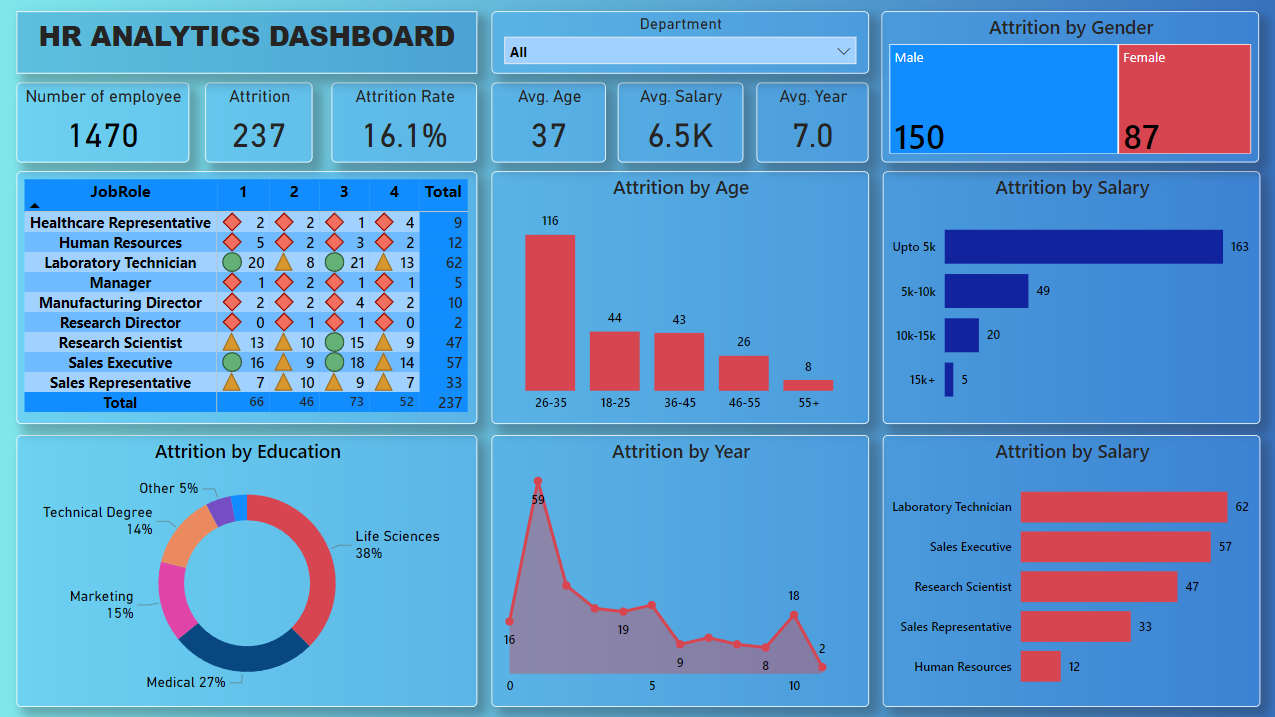

This screenshot's page, from the dashboard's own definition file:
{"tool":"powerbi","page":{"name":"Page 1","canvas":[1280,720],"ordinal":0},"visuals":[{"type":"card","title":"Number of employee","fields":{"Values":["CountNonNull(HR_Analytics.EmpID)"]},"box":[18.1,82,172.5,79.6],"z":0},{"type":"card","title":"Attrition","fields":{"Values":["Sum(HR_Analytics.AttritionCount)"]},"box":[206.3,82,107.4,79.6],"z":1000},{"type":"card","title":"Attrition Rate","fields":{"Values":["HR_Analytics.AttritionRate"]},"box":[333,82,146,79.6],"z":2000},{"type":"card","title":"Avg. Age","fields":{"Values":["Avg(HR_Analytics.Age)"]},"box":[492.2,82,114.6,79.6],"z":3000},{"type":"card","title":"Avg. Salary ","fields":{"Values":["Avg(HR_Analytics.MonthlyIncome)"]},"box":[618.9,82,125.5,79.6],"z":4000},{"type":"card","title":"Avg. Year ","fields":{"Values":["Avg(HR_Analytics.YearsAtCompany)"]},"box":[757.6,82,112.2,79.6],"z":5000},{"type":"pieChart","title":"Attrition by Education","fields":{"Category":["HR_Analytics.EducationField"],"Y":["Sum(HR_Analytics.AttritionCount)"]},"box":[17.8,435,461.1,271.7],"z":6000},{"type":"columnChart","title":"Attrition by Age","fields":{"Category":["HR_Analytics.AgeGroup"],"Y":["Sum(HR_Analytics.AttritionCount)"]},"box":[492.6,171.5,377.4,252.5],"z":7000},{"type":"pivotTable","fields":{"Rows":["HR_Analytics.JobRole"],"Columns":["HR_Analytics.JobSatisfaction"],"Values":["Sum(HR_Analytics.AttritionCount)"]},"box":[17.8,171.5,461.1,252.5],"z":8000},{"type":"barChart","title":"Attrition by Salary","fields":{"Category":["HR_Analytics.SalarySlab"],"Y":["Sum(HR_Analytics.AttritionCount)"]},"box":[883.7,171.5,377.4,252.5],"z":9000},{"type":"barChart","title":"Attrition by Salary","fields":{"Y":["Sum(HR_Analytics.AttritionCount)"],"Category":["HR_Analytics.JobRole"]},"box":[883.7,435,377.4,271.7],"z":10000},{"type":"areaChart","title":"Attrition by Year","fields":{"Category":["HR_Analytics.YearsAtCompany"],"Y":["Sum(HR_Analytics.AttritionCount)"]},"box":[492.6,435,377.4,271.7],"z":11000},{"type":"treemap","title":"Attrition by Gender","fields":{"Group":["HR_Analytics.Gender"],"Values":["Sum(HR_Analytics.AttritionCount)"]},"box":[883.1,10.9,377.6,150.8],"z":12000},{"type":"slicer","title":"Department","fields":{"Values":["HR_Analytics.Department"]},"box":[492.2,10.9,377.6,62.7],"z":13000},{"type":"textbox","box":[18.1,10.9,460.9,62.7],"z":13001}]}

Visuals, with their boxes in screenshot pixels (x1, y1, x2, y2), scaled from the page's 1280x720 canvas onto the 1275x717 screenshot:
"Number of employee" card: select_region(18, 82, 190, 161)
"Attrition" card: select_region(205, 82, 312, 161)
"Attrition Rate" card: select_region(332, 82, 477, 161)
"Avg. Age" card: select_region(490, 82, 604, 161)
"Avg. Salary " card: select_region(616, 82, 741, 161)
"Avg. Year " card: select_region(755, 82, 866, 161)
"Attrition by Education" pieChart: select_region(18, 433, 477, 704)
"Attrition by Age" columnChart: select_region(491, 171, 867, 422)
pivotTable - HR_Analytics.JobRole x HR_Analytics.JobSatisfaction: select_region(18, 171, 477, 422)
"Attrition by Salary" barChart: select_region(880, 171, 1256, 422)
"Attrition by Salary" barChart: select_region(880, 433, 1256, 704)
"Attrition by Year" areaChart: select_region(491, 433, 867, 704)
"Attrition by Gender" treemap: select_region(880, 11, 1256, 161)
"Department" slicer: select_region(490, 11, 866, 73)
textbox: select_region(18, 11, 477, 73)
